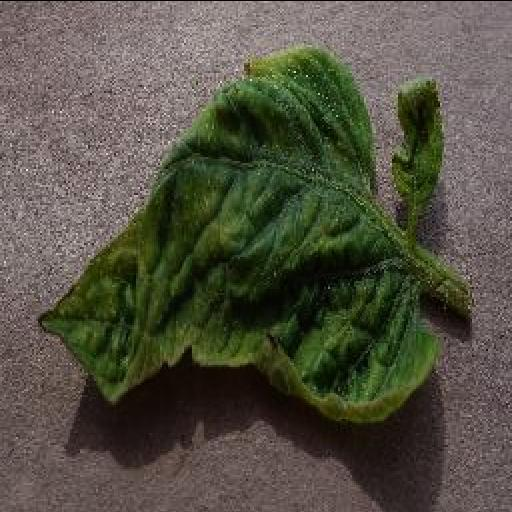disease_tomato: (38, 48, 438, 420)
